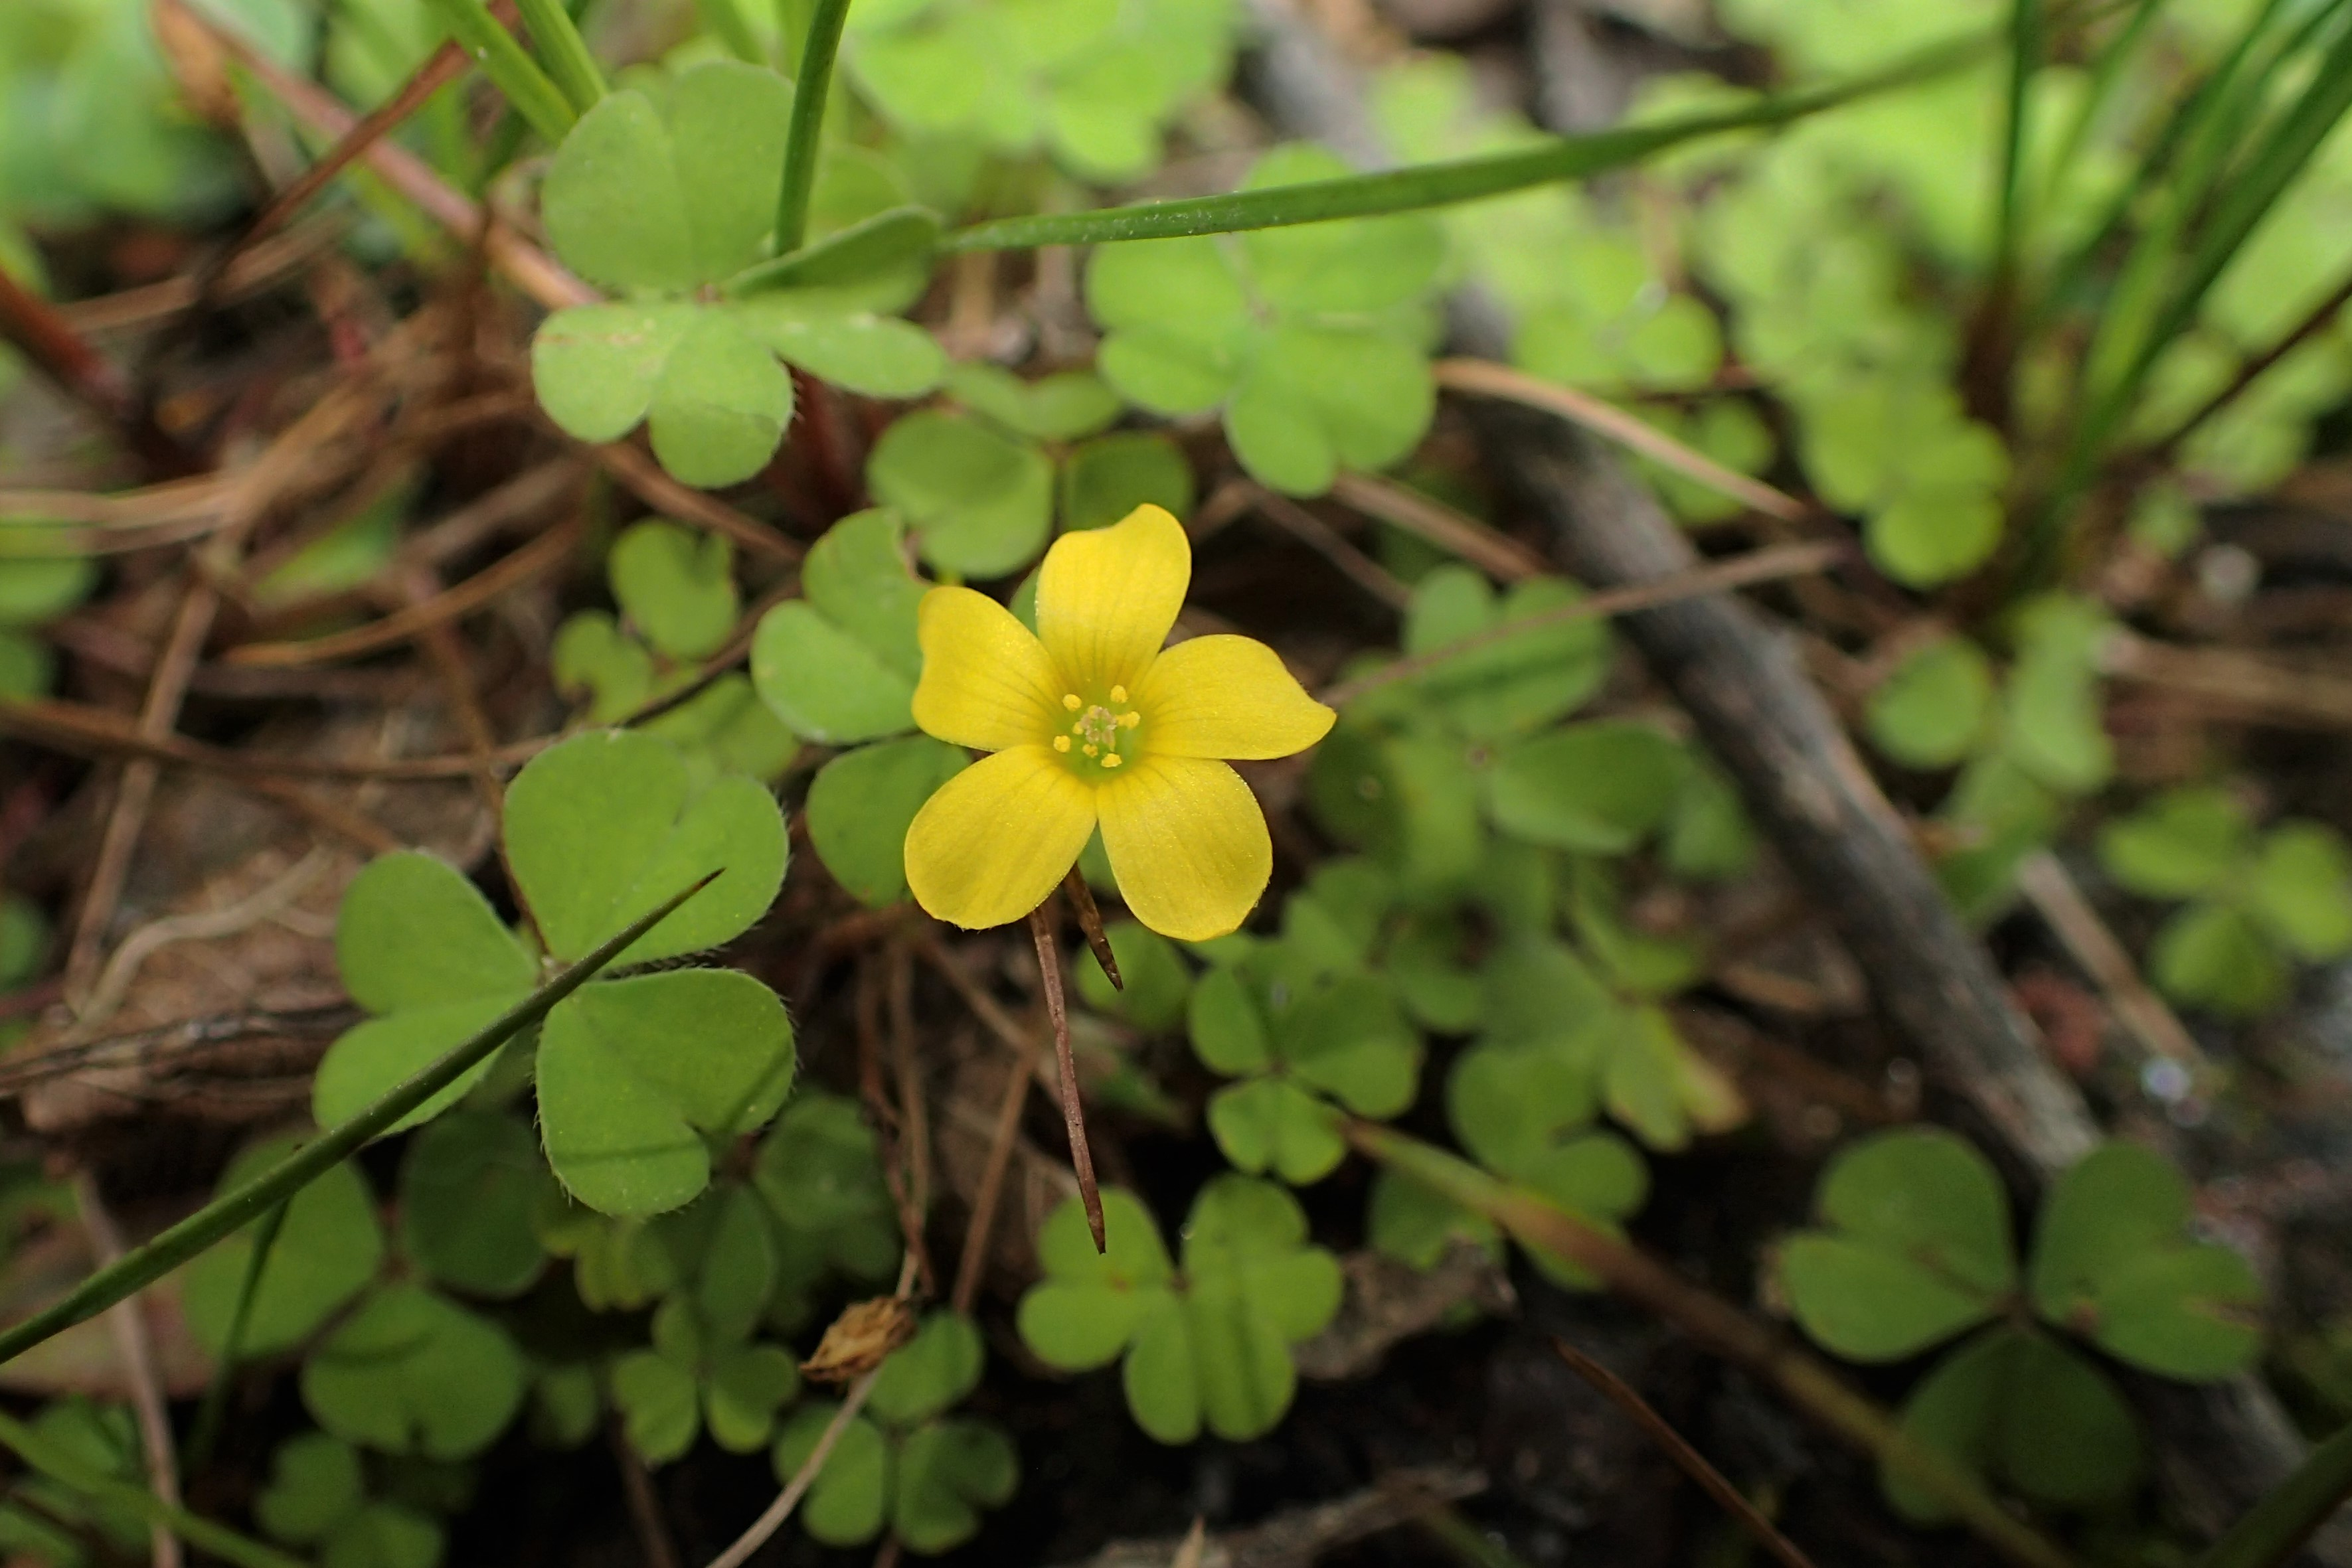oxalis: (1244, 586, 1717, 1353), (248, 660, 819, 1221), (1766, 1123, 2313, 1510), (731, 1236, 1368, 1568), (525, 42, 935, 476), (1132, 128, 1460, 548)
